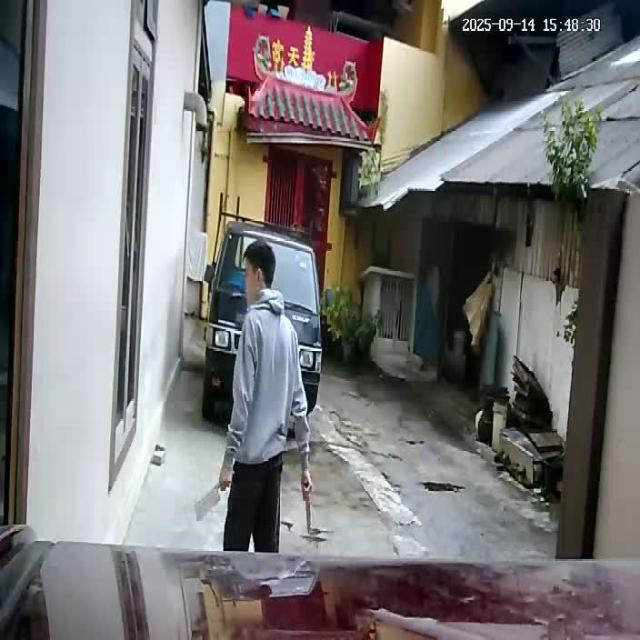senjata_tajam: (192, 480, 221, 521), (305, 499, 313, 537)
